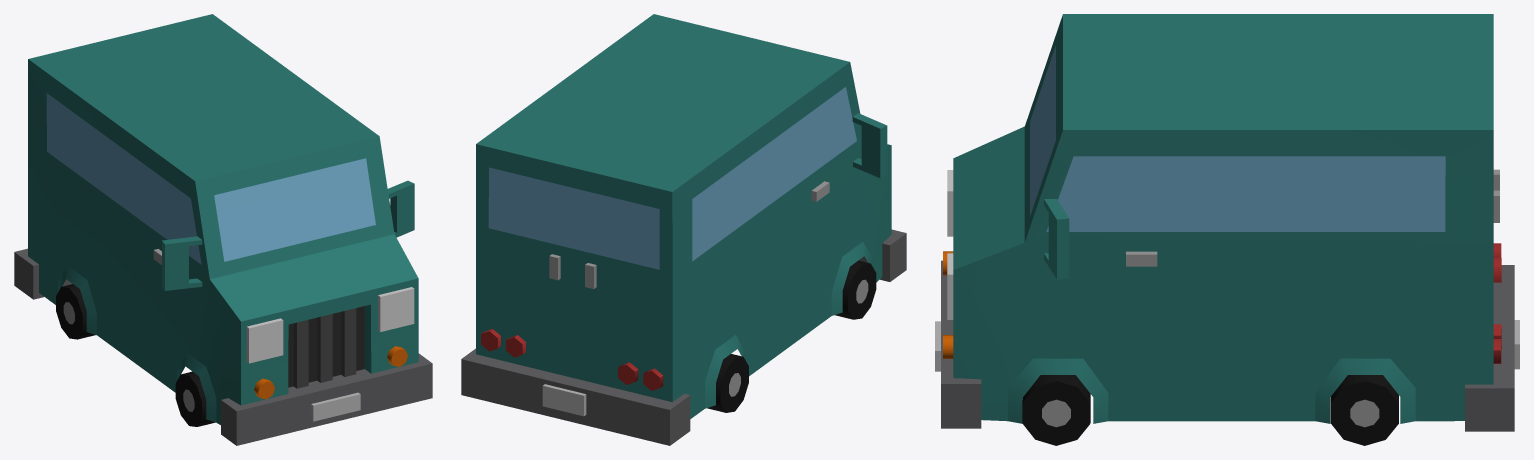
Rendered from Car_11_virid.fbx.
3 renders of one model, left to right at view 1: azimuth 30°, elevation 25°; view 2: azimuth 150°, elevation 25°; view 3: azimuth 270°, elevation 25°, orthographic. The views are drawn at different scales.
Visible parts, largest first — view 1: Car_11_virid; view 2: Car_11_virid; view 3: Car_11_virid.
Part boxes in pixels (x1=…): Car_11_virid: x1=14, y1=14, x2=432, y2=445; Car_11_virid: x1=461, y1=14, x2=906, y2=445; Car_11_virid: x1=935, y1=14, x2=1519, y2=445.
Bounding box in the file's own units: 65.22 × 60.13 × 103.
